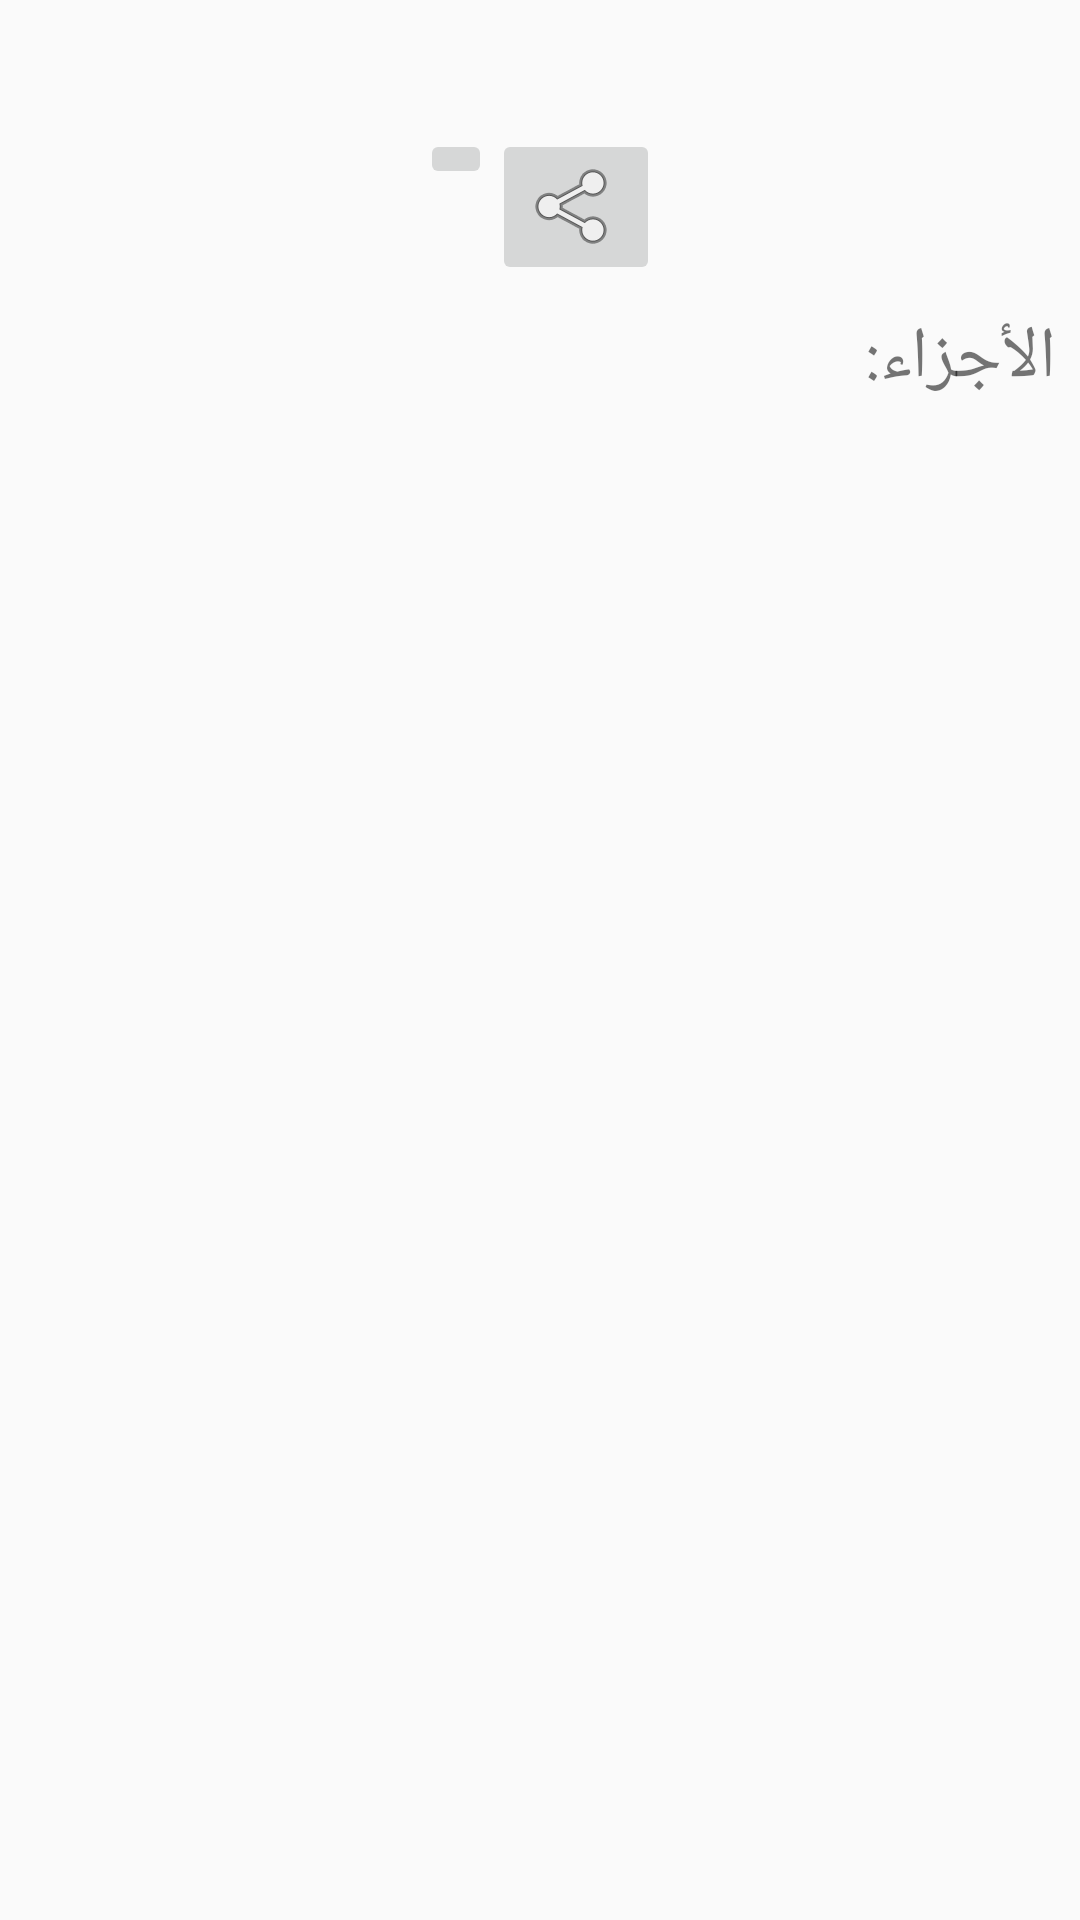

Where to tap for icons on this 1080×1920 app screen, as (x=x, y=y):
share: (x=576, y=207)
